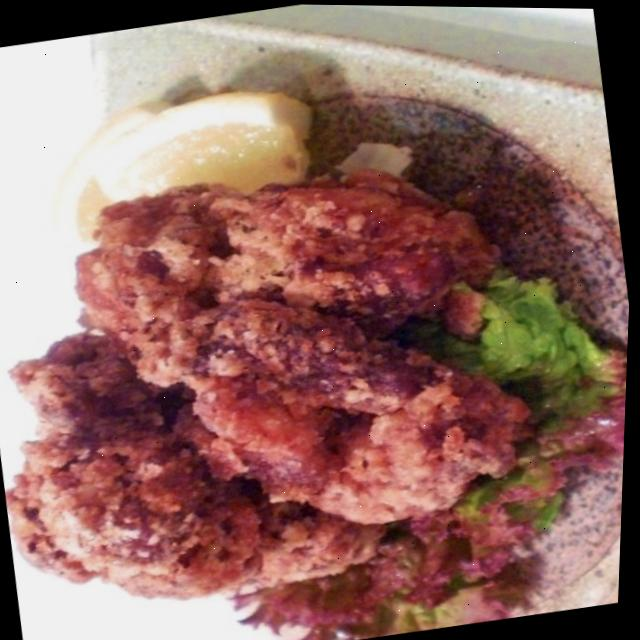鸡肉料理 含炸鸡: (0, 119, 624, 640)
